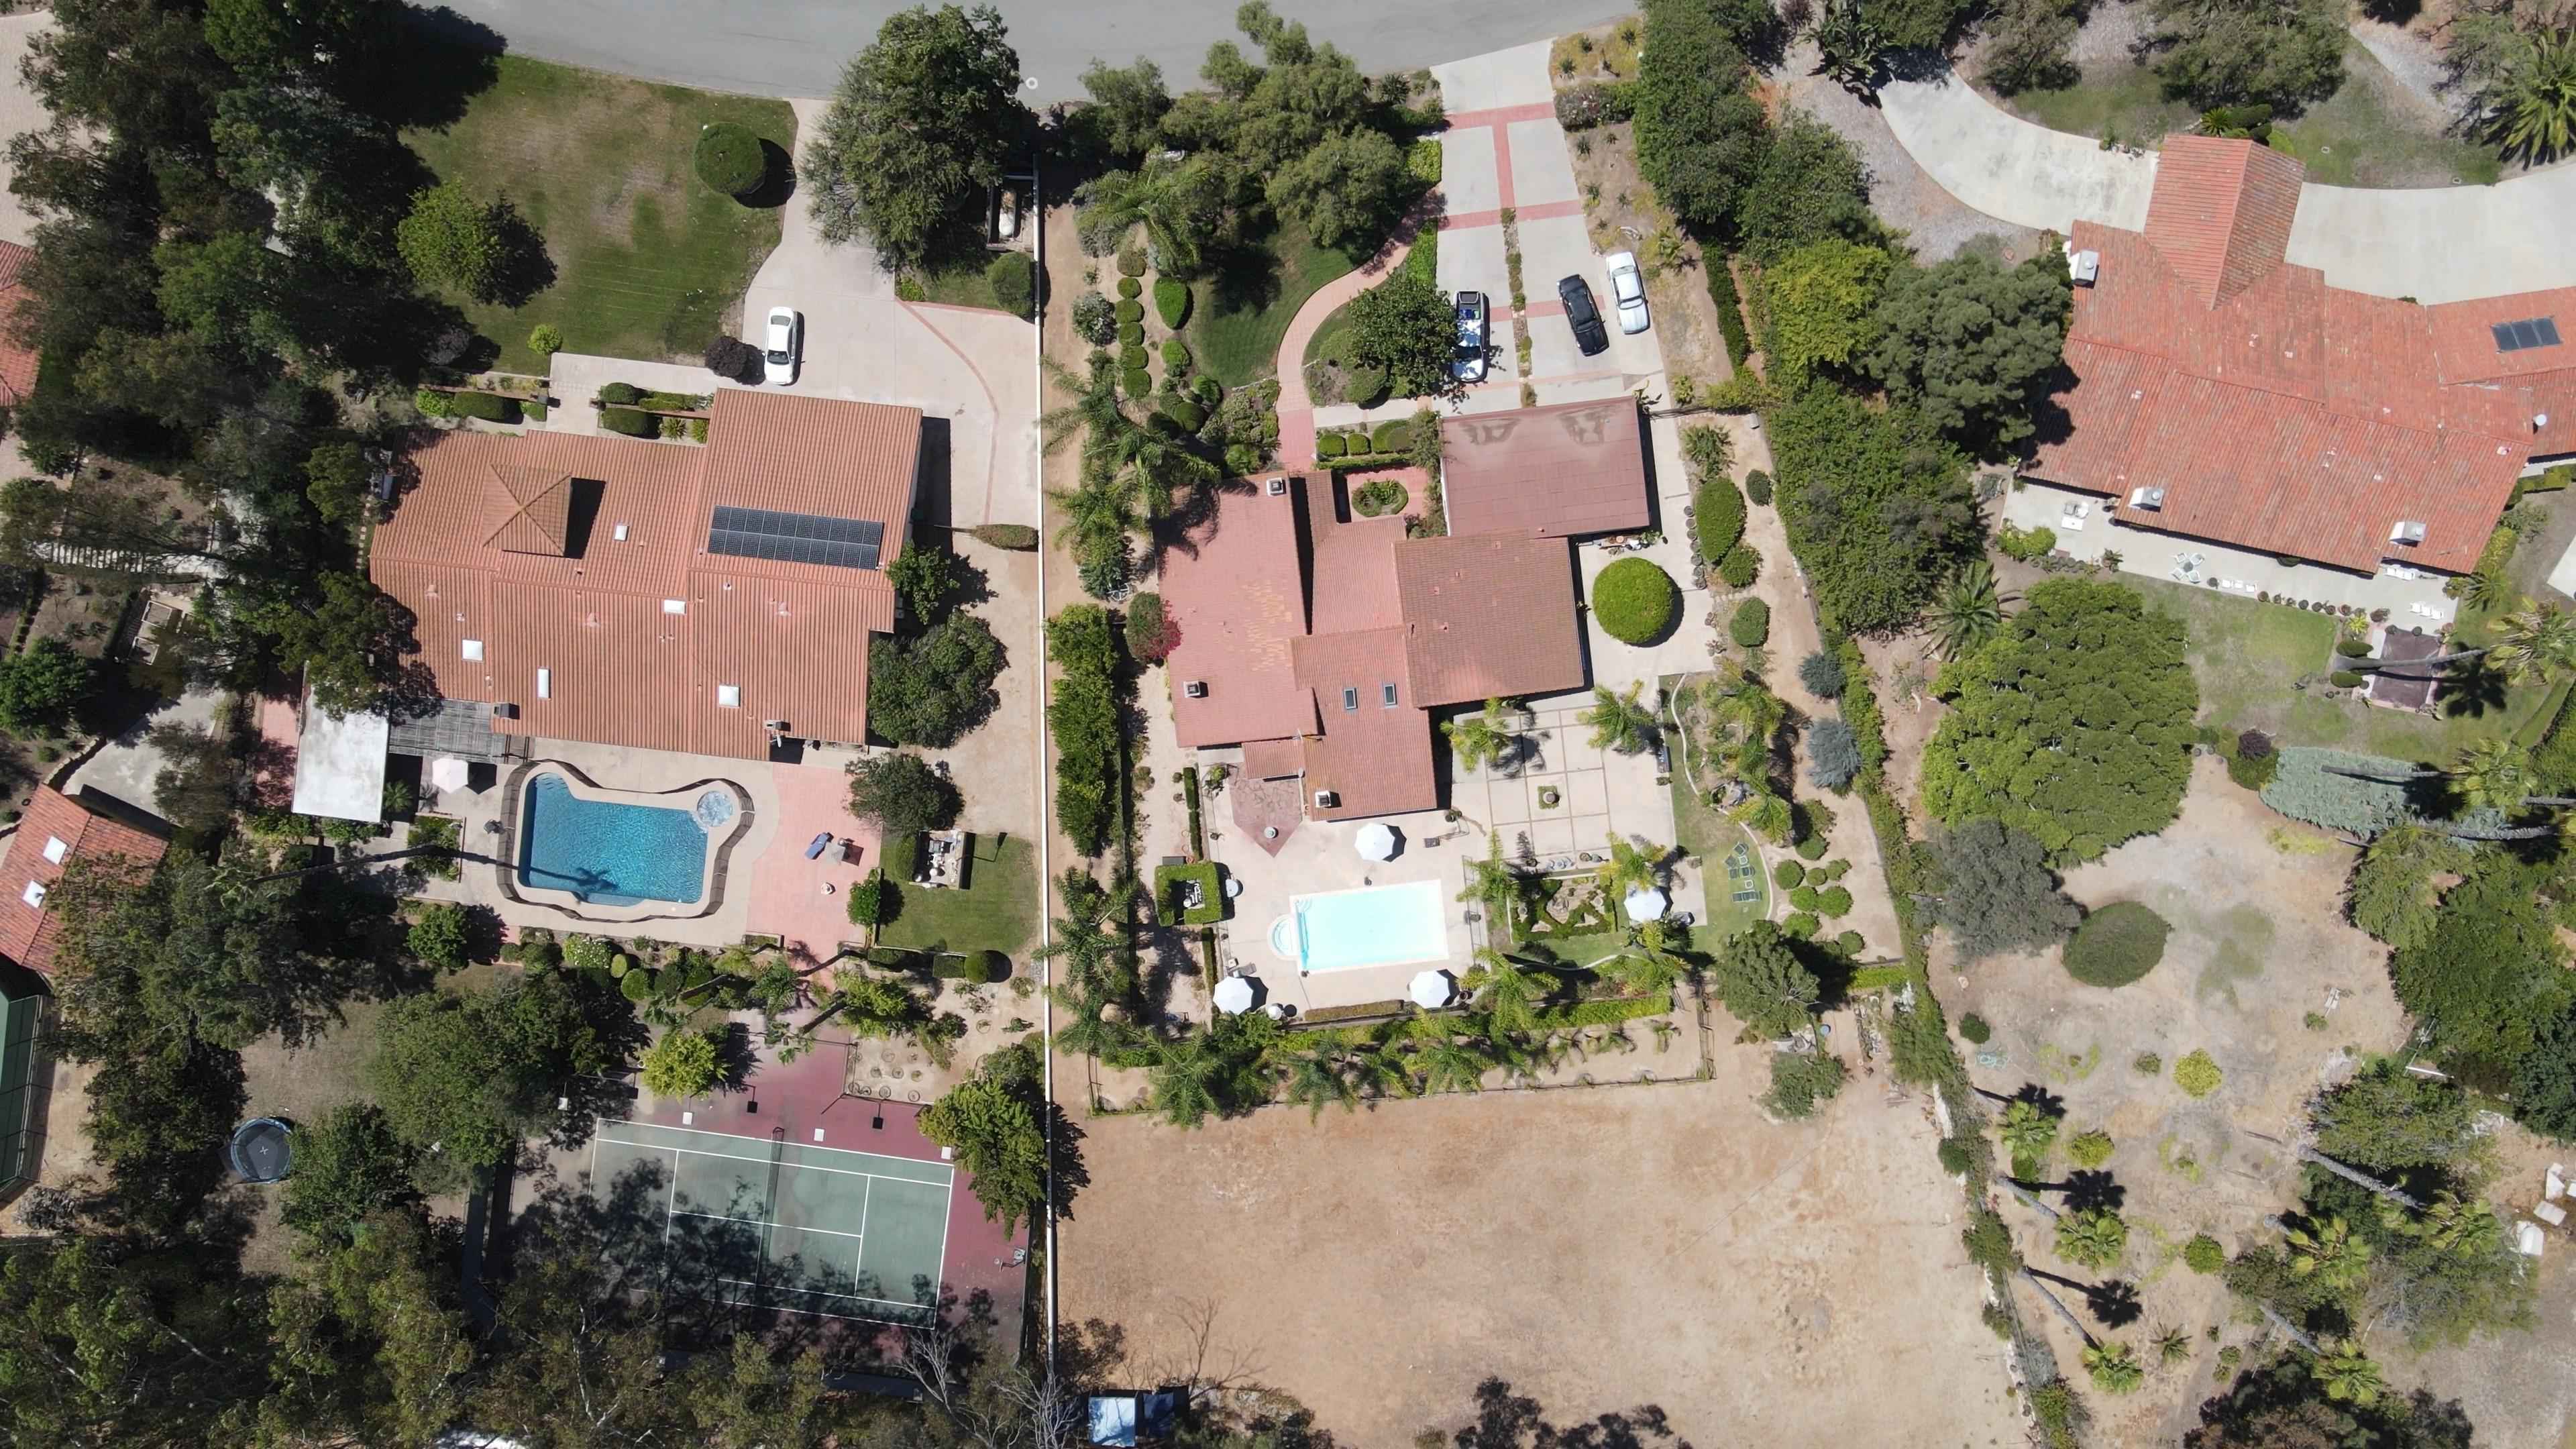solar-panels: (706, 503, 883, 572), (2489, 317, 2563, 352)
